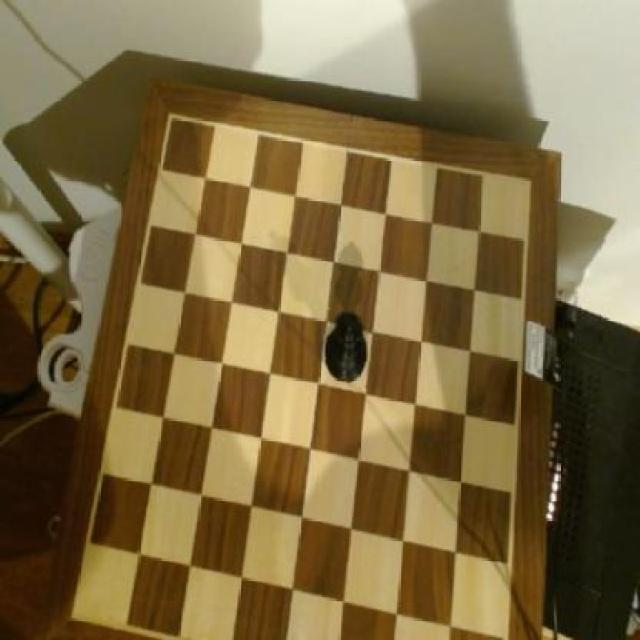black-pawn: (323, 308, 372, 388)
